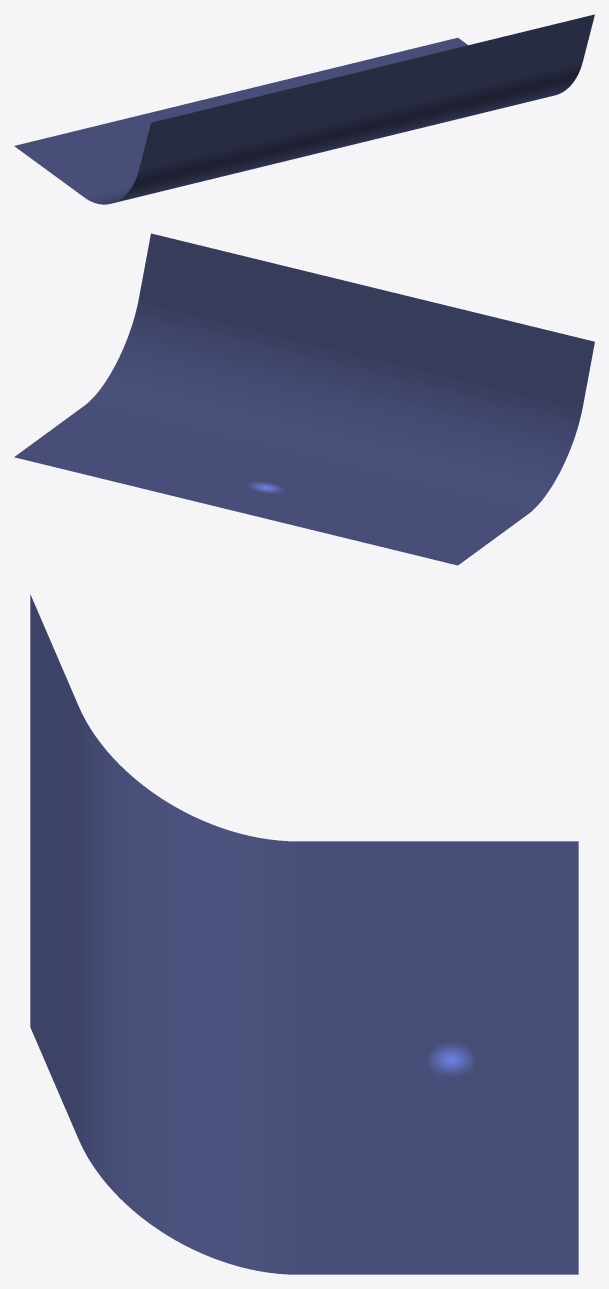
Rendered from Stend.fbx.
3 renders of one model, top to bottom at view 1: azimuth 30°, elevation 25°; view 2: azimuth 150°, elevation 25°; view 3: azimuth 270°, elevation 25°, orthographic. The views are drawn at different scales.
Visible parts, largest first — view 1: Stend; view 2: Stend; view 3: Stend.
Boxes of the visible parts, x1,y1,x2,y2 form: Stend: (14, 14, 594, 204); Stend: (14, 233, 594, 565); Stend: (30, 594, 578, 1274).
Bounding box in the file's own units: 31 × 8.24 × 16.57.
